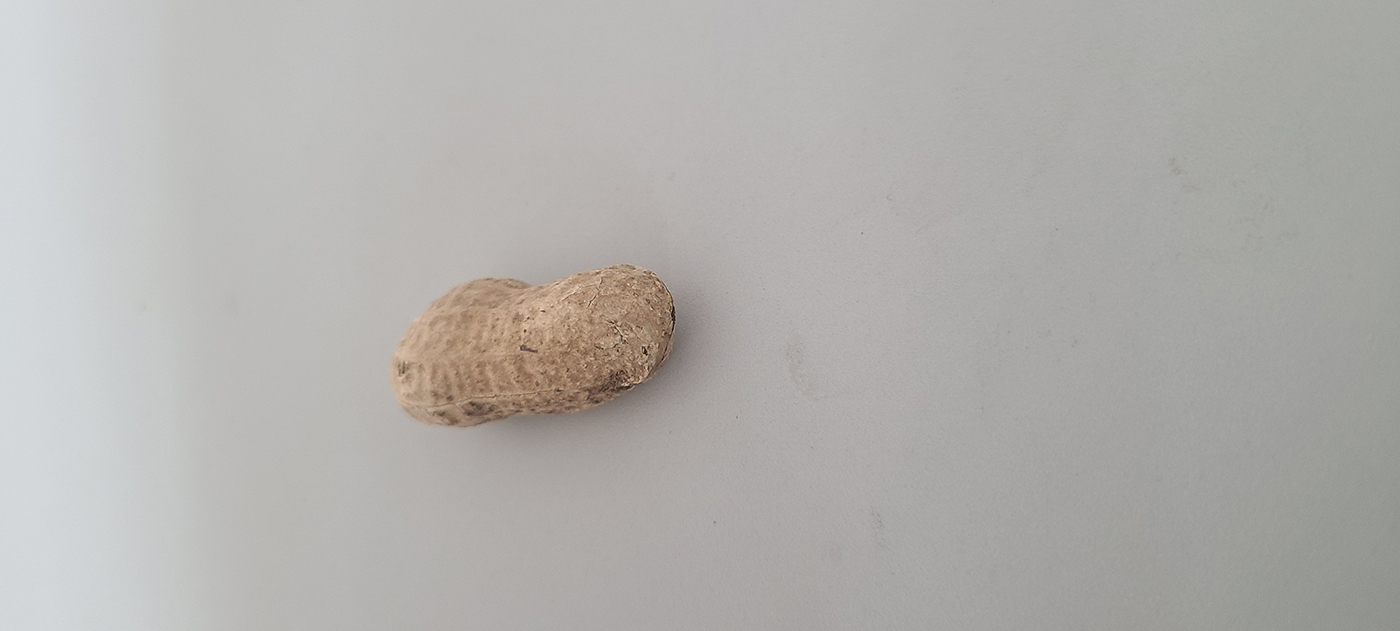h: (391, 262, 680, 431)
